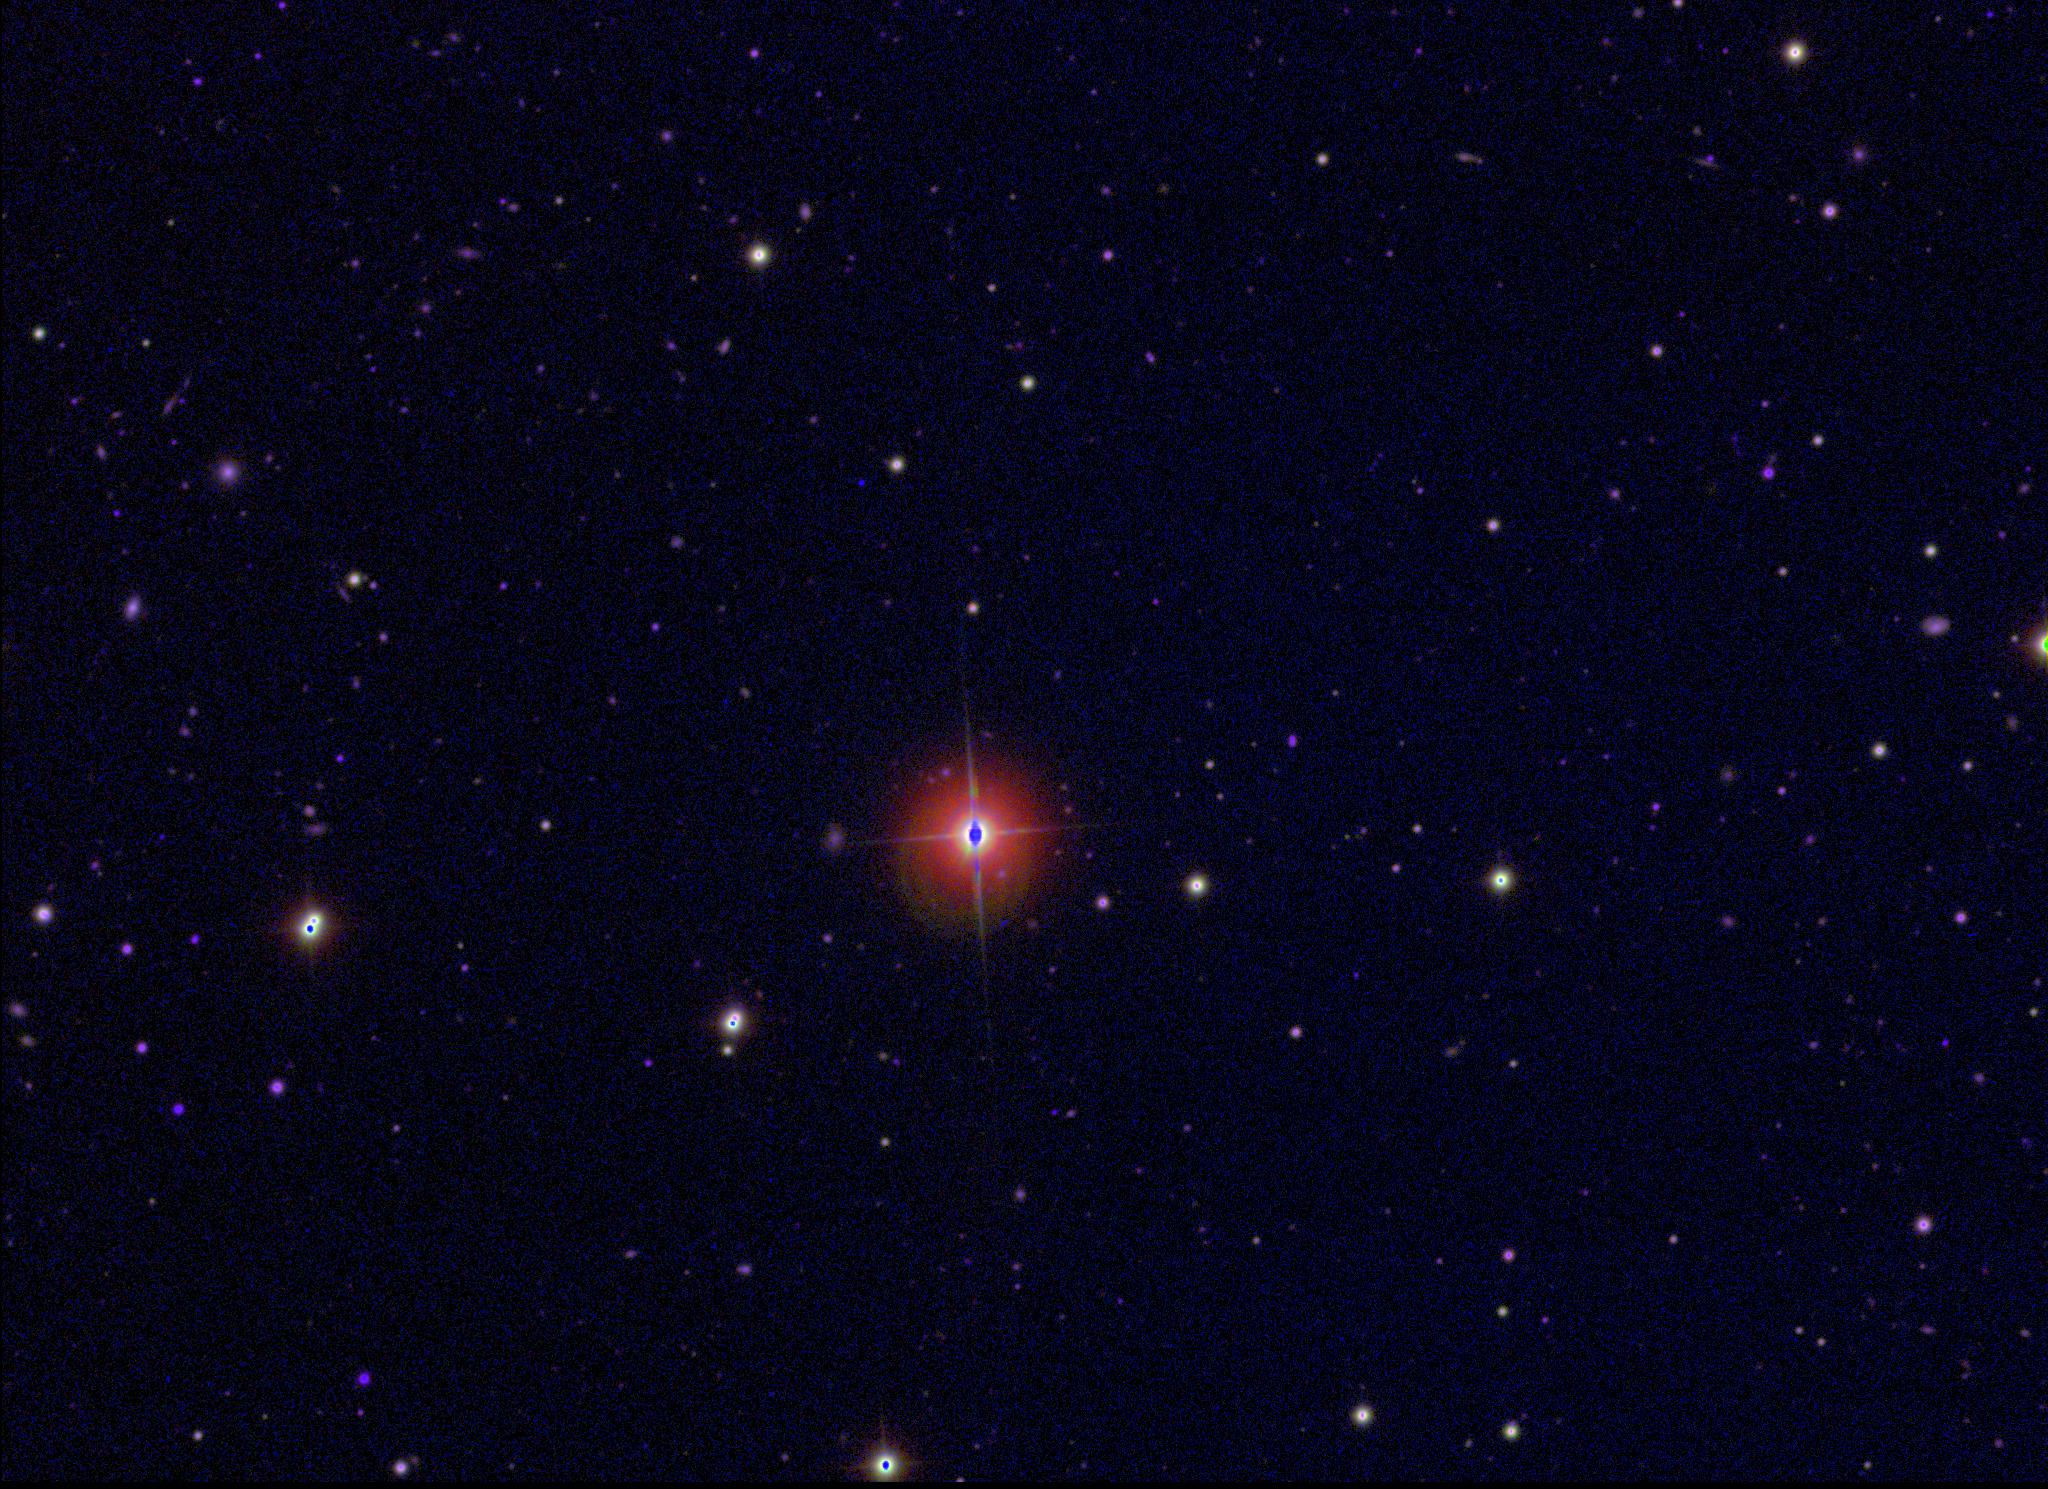L: (855, 474, 870, 488)
